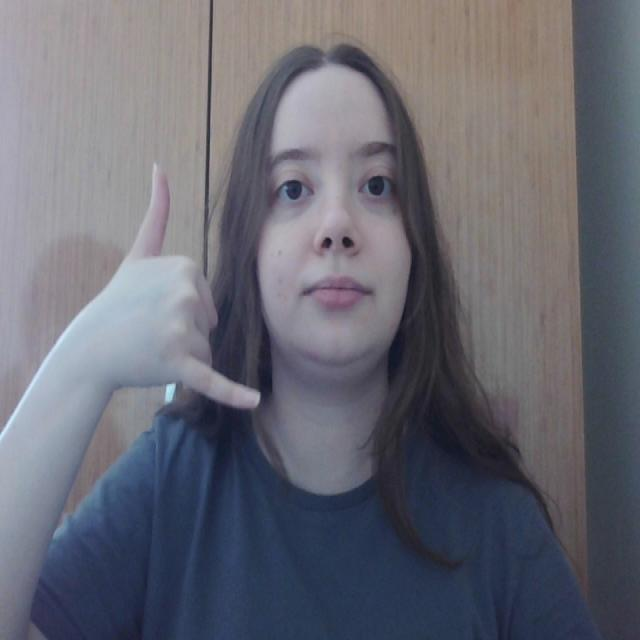Telefon: (122, 135, 266, 427)
